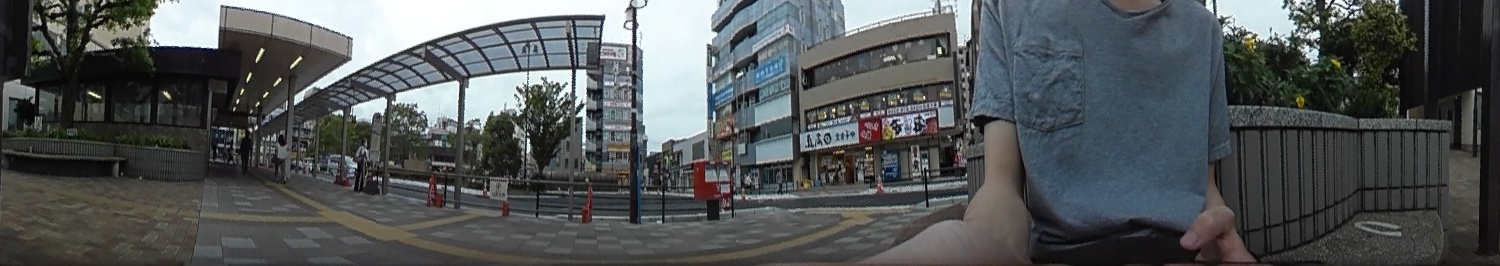difficult_person: (237, 125, 253, 173), (743, 169, 754, 194), (773, 166, 784, 190)
person: (352, 135, 370, 192), (271, 134, 289, 181)
